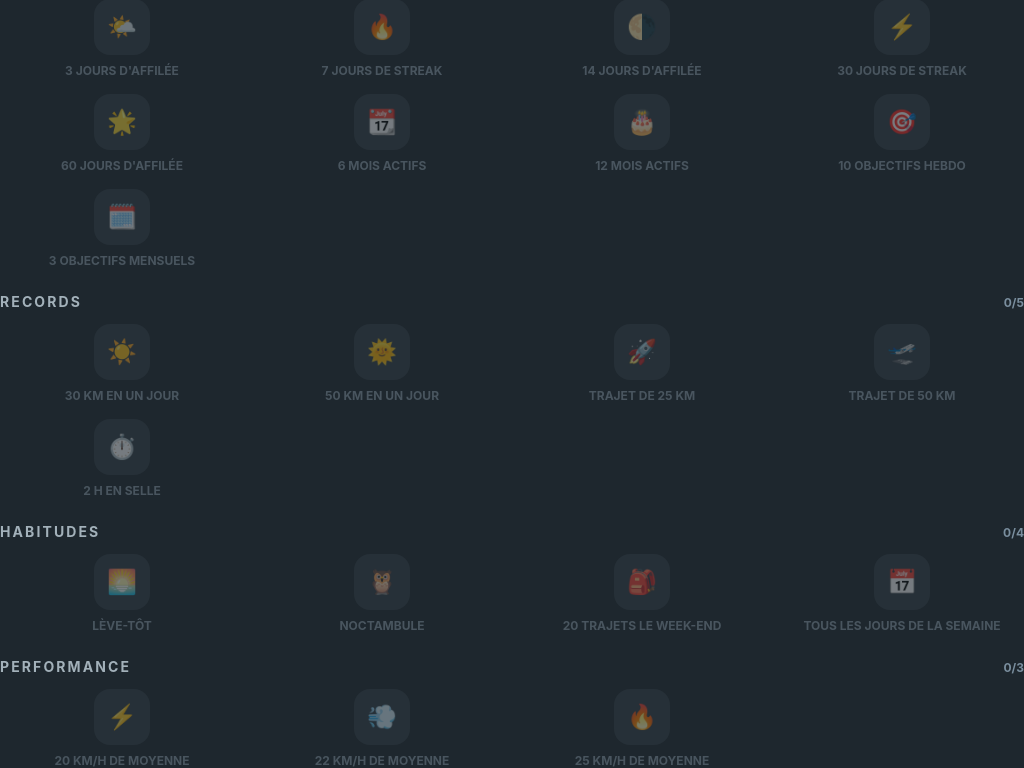
BadgeGrid › ne déclenche pas la navigation par balayage depuis la modale
Click the button "🌅 Lève-tôt".
click(122, 594)  # box [0,554,244,633]
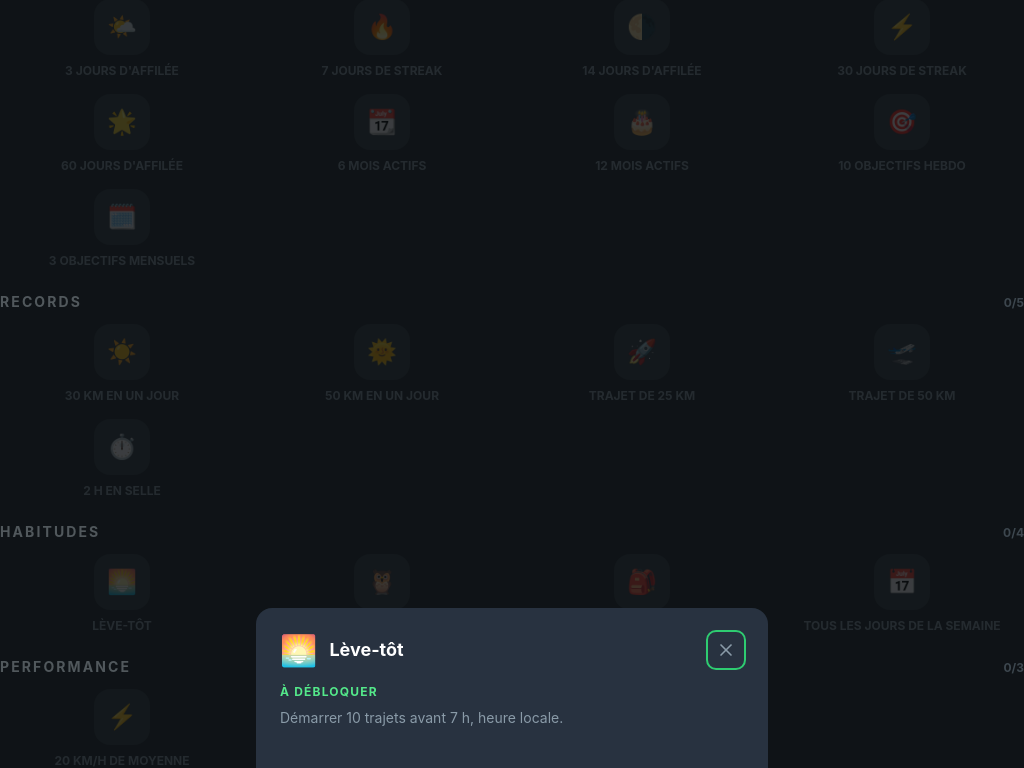
Expected: the dialog is shown
